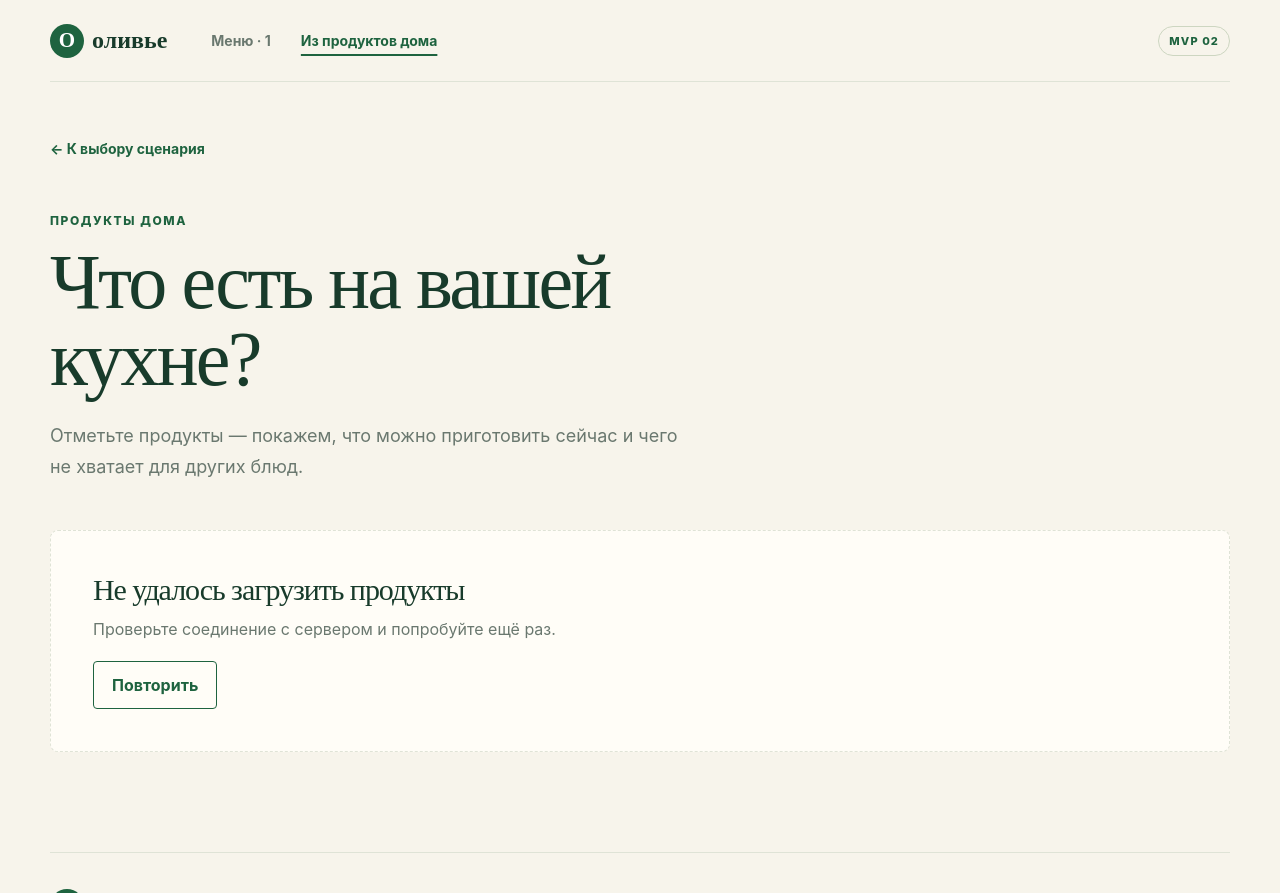
Test: App › показывает ошибку каталога и повторяет загрузку
Expected: the message shows "Не удалось загрузить продукты", x1=93 y1=573 x2=464 y2=606
Click the button "Повторить": (155, 685) x1=93 y1=661 x2=217 y2=709
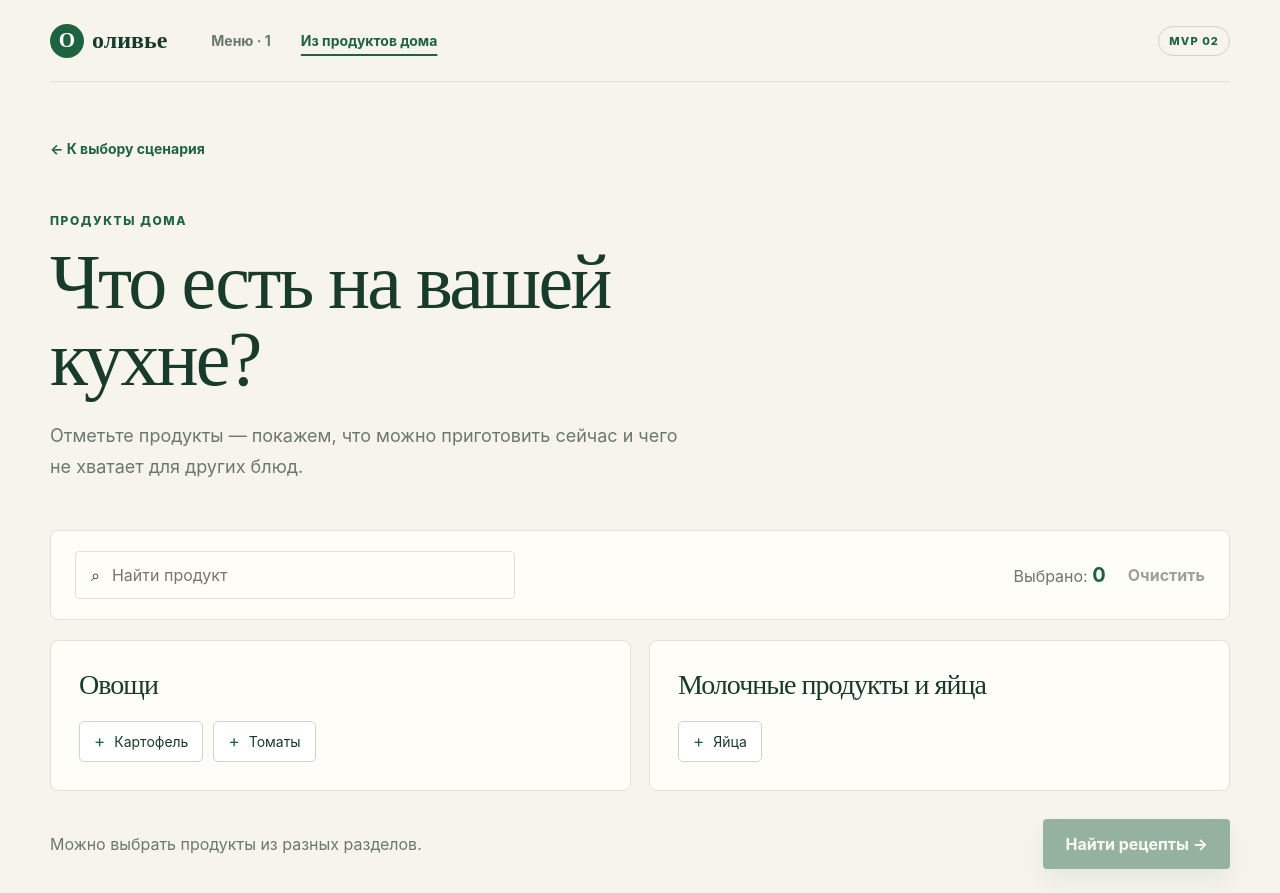
Now the button "+ Картофель" is shown, box x1=79 y1=721 x2=203 y2=762
